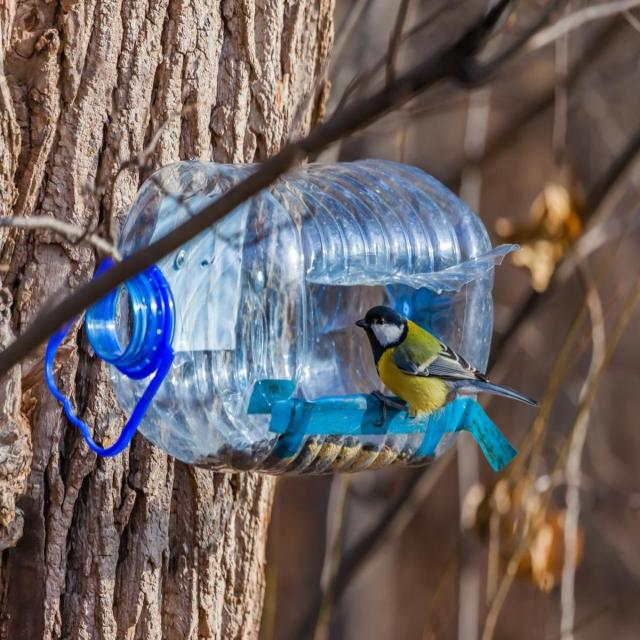bottle: (38, 139, 542, 547)
